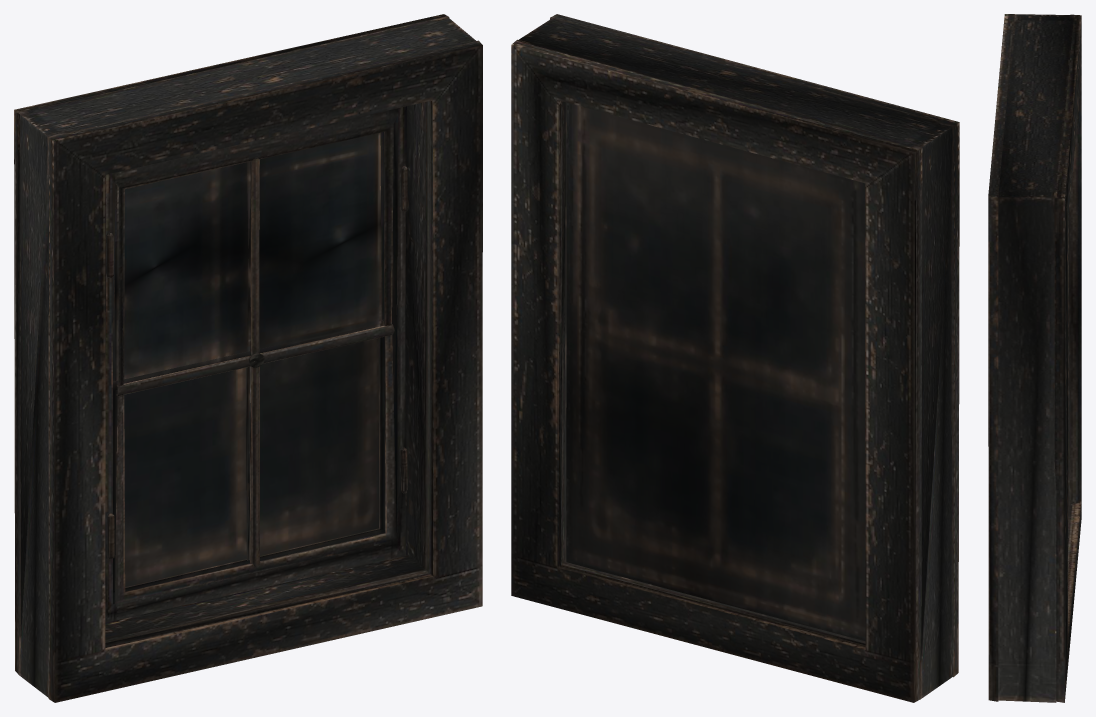
File: old_window.fbx
3 renders of one model, left to right at view 1: azimuth 30°, elevation 25°; view 2: azimuth 150°, elevation 25°; view 3: azimuth 270°, elevation 25°, orthographic. The views are drawn at different scales.
Parts seen in each view (by area): view 1: old_window; view 2: old_window; view 3: old_window.
Boxes of the visible parts, <box> form: old_window: <box>14,14,482,702</box>; old_window: <box>511,14,959,702</box>; old_window: <box>988,14,1081,702</box>.
Bounding box in the file's own units: 512 × 650 × 109.
Materials: 1 (1 with a texture image).
